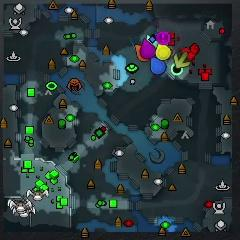Other: (156, 31, 170, 45)
p1: (150, 56, 167, 75)
p2: (145, 34, 159, 46)
p2Clone: (171, 62, 183, 75)
p3: (140, 39, 156, 58)
p4: (156, 42, 171, 60)
p5: (134, 43, 149, 62)
x2: (174, 52, 191, 68)
